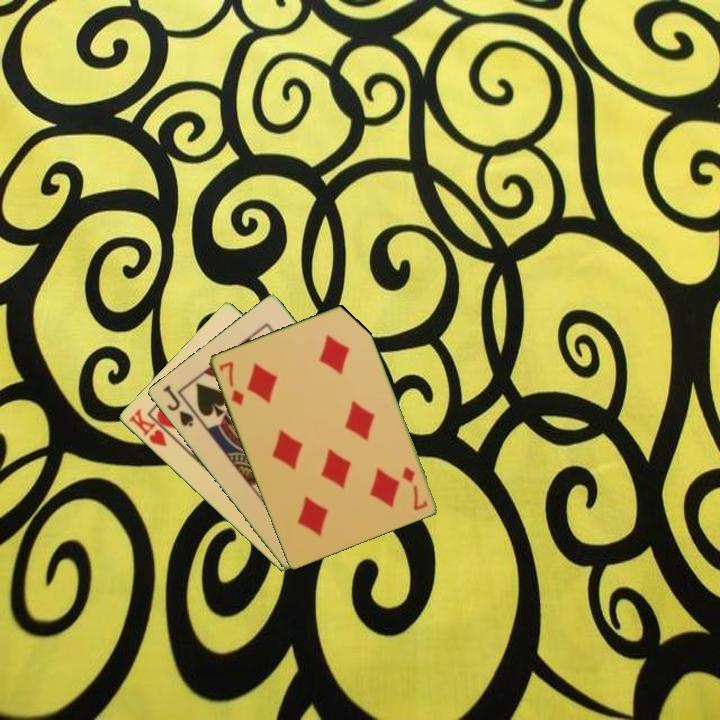7d: (215, 358, 247, 409), (398, 463, 430, 513)
Js: (159, 381, 196, 430)
Kh: (125, 405, 178, 450)
